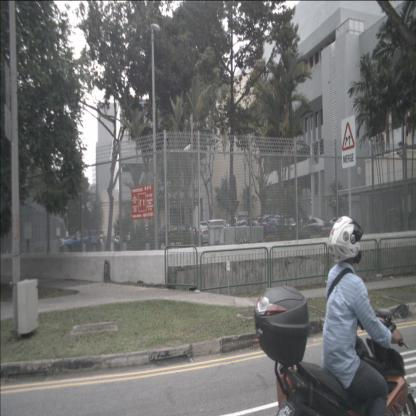vehicle-car: (62, 230, 101, 252), (252, 214, 279, 240), (300, 218, 332, 239), (187, 222, 212, 244), (206, 219, 231, 240)
vehicle-motorcycle: (254, 216, 416, 416)
